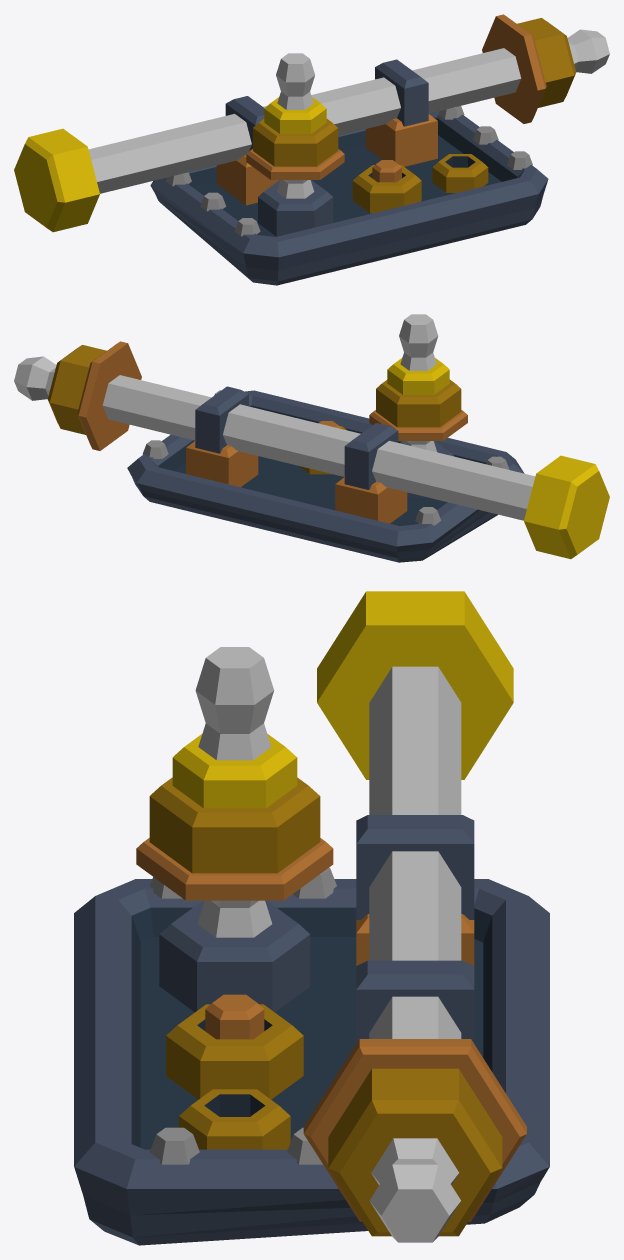
Rendered from tiny-bolt-and-nut-7c94d4.glb.
The picture shows the model from 3 angles, top to bottom: view 1: azimuth 30°, elevation 25°; view 2: azimuth 150°, elevation 25°; view 3: azimuth 270°, elevation 25°; orthographic projection. The views are drawn at different scales.
Visible parts, largest first — view 1: back; view 2: back; view 3: back.
Part boxes in pixels (x1,y1,x2,y2): back: (14, 14, 609, 285); back: (14, 314, 609, 562); back: (74, 591, 549, 1245).
Size of the model in its own units: 0.0796 by 0.0256 by 0.029.
